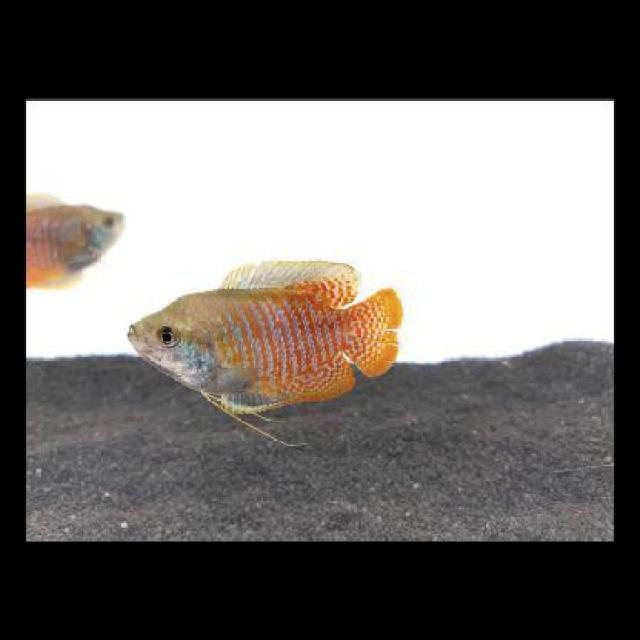Gourami: (114, 236, 414, 422)
